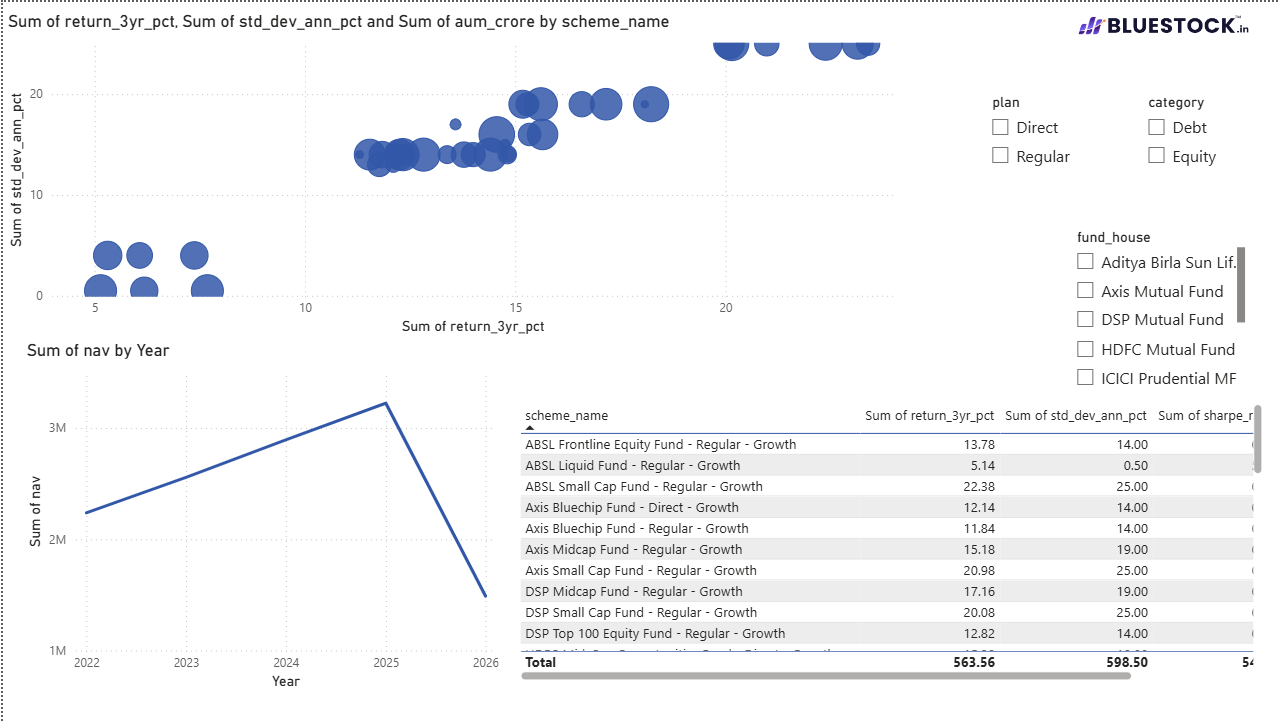

This screenshot's page, from the dashboard's own definition file:
{"tool":"powerbi","page":{"name":"Page 2","canvas":[1280,720],"ordinal":1},"visuals":[{"type":"scatterChart","fields":{"X":["Sum(07_scheme_performance.return_3yr_pct)"],"Y":["Sum(07_scheme_performance.std_dev_ann_pct)"],"Category":["07_scheme_performance.scheme_name"],"Size":["Sum(07_scheme_performance.aum_crore)"]},"box":[0,9,903,329],"z":0},{"type":"tableEx","fields":{"Values":["07_scheme_performance.scheme_name","Sum(07_scheme_performance.return_3yr_pct)","Sum(07_scheme_performance.std_dev_ann_pct)","Sum(07_scheme_performance.sharpe_ratio)","Sum(07_scheme_performance.aum_crore)"]},"box":[511,398,753,286],"z":1},{"type":"slicer","fields":{"Values":["01_fund_master.fund_house"]},"box":[1061,221,186,177],"z":2},{"type":"slicer","fields":{"Values":["01_fund_master.category"]},"box":[1132,86,100,88],"z":3},{"type":"slicer","fields":{"Values":["01_fund_master.plan"]},"box":[976,86,99,94],"z":4},{"type":"lineChart","fields":{"Category":["02_nav_history.date.Variation.Date Hierarchy.Year","02_nav_history.date.Variation.Date Hierarchy.Quarter","02_nav_history.date.Variation.Date Hierarchy.Month","02_nav_history.date.Variation.Date Hierarchy.Day"],"Y":["Sum(02_nav_history.nav)"]},"box":[19,338,482,355],"z":5},{"type":"image","box":[1075,0,172,46],"z":6}]}

Visuals, with their boxes in screenshot pixels (x1, y1, x2, y2), scaled from the page's 1280x720 canvas onto the 1280x722 screenshot:
scatterChart - Sum(07_scheme_performance.return_3yr_pct) x Sum(07_scheme_performance.std_dev_ann_pct): 0/9/903/339
tableEx - 07_scheme_performance.scheme_name x Sum(07_scheme_performance.return_3yr_pct): 511/399/1264/686
slicer - 01_fund_master.fund_house: 1061/222/1247/399
slicer - 01_fund_master.category: 1132/86/1232/174
slicer - 01_fund_master.plan: 976/86/1075/180
lineChart - 02_nav_history.date.Variation.Date Hierarchy.Year x 02_nav_history.date.Variation.Date Hierarchy.Quarter: 19/339/501/695
image: 1075/0/1247/46
